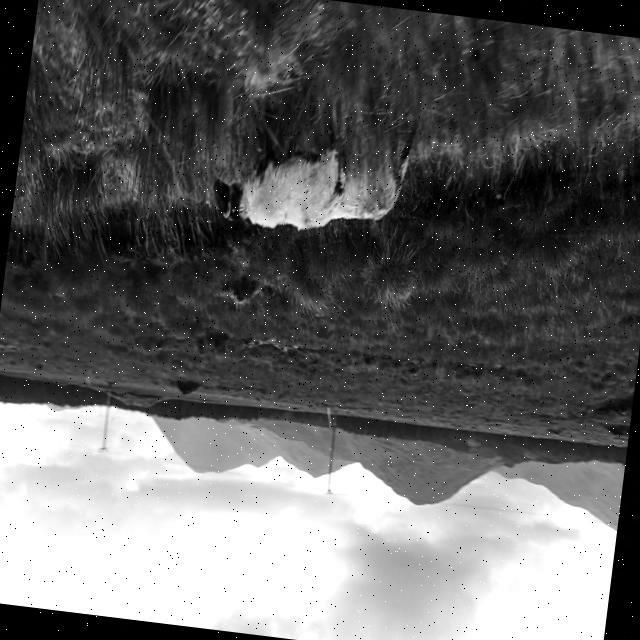sheep: (213, 141, 345, 230), (332, 143, 411, 221)
